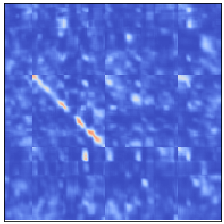action_path: (29, 75, 104, 149)
